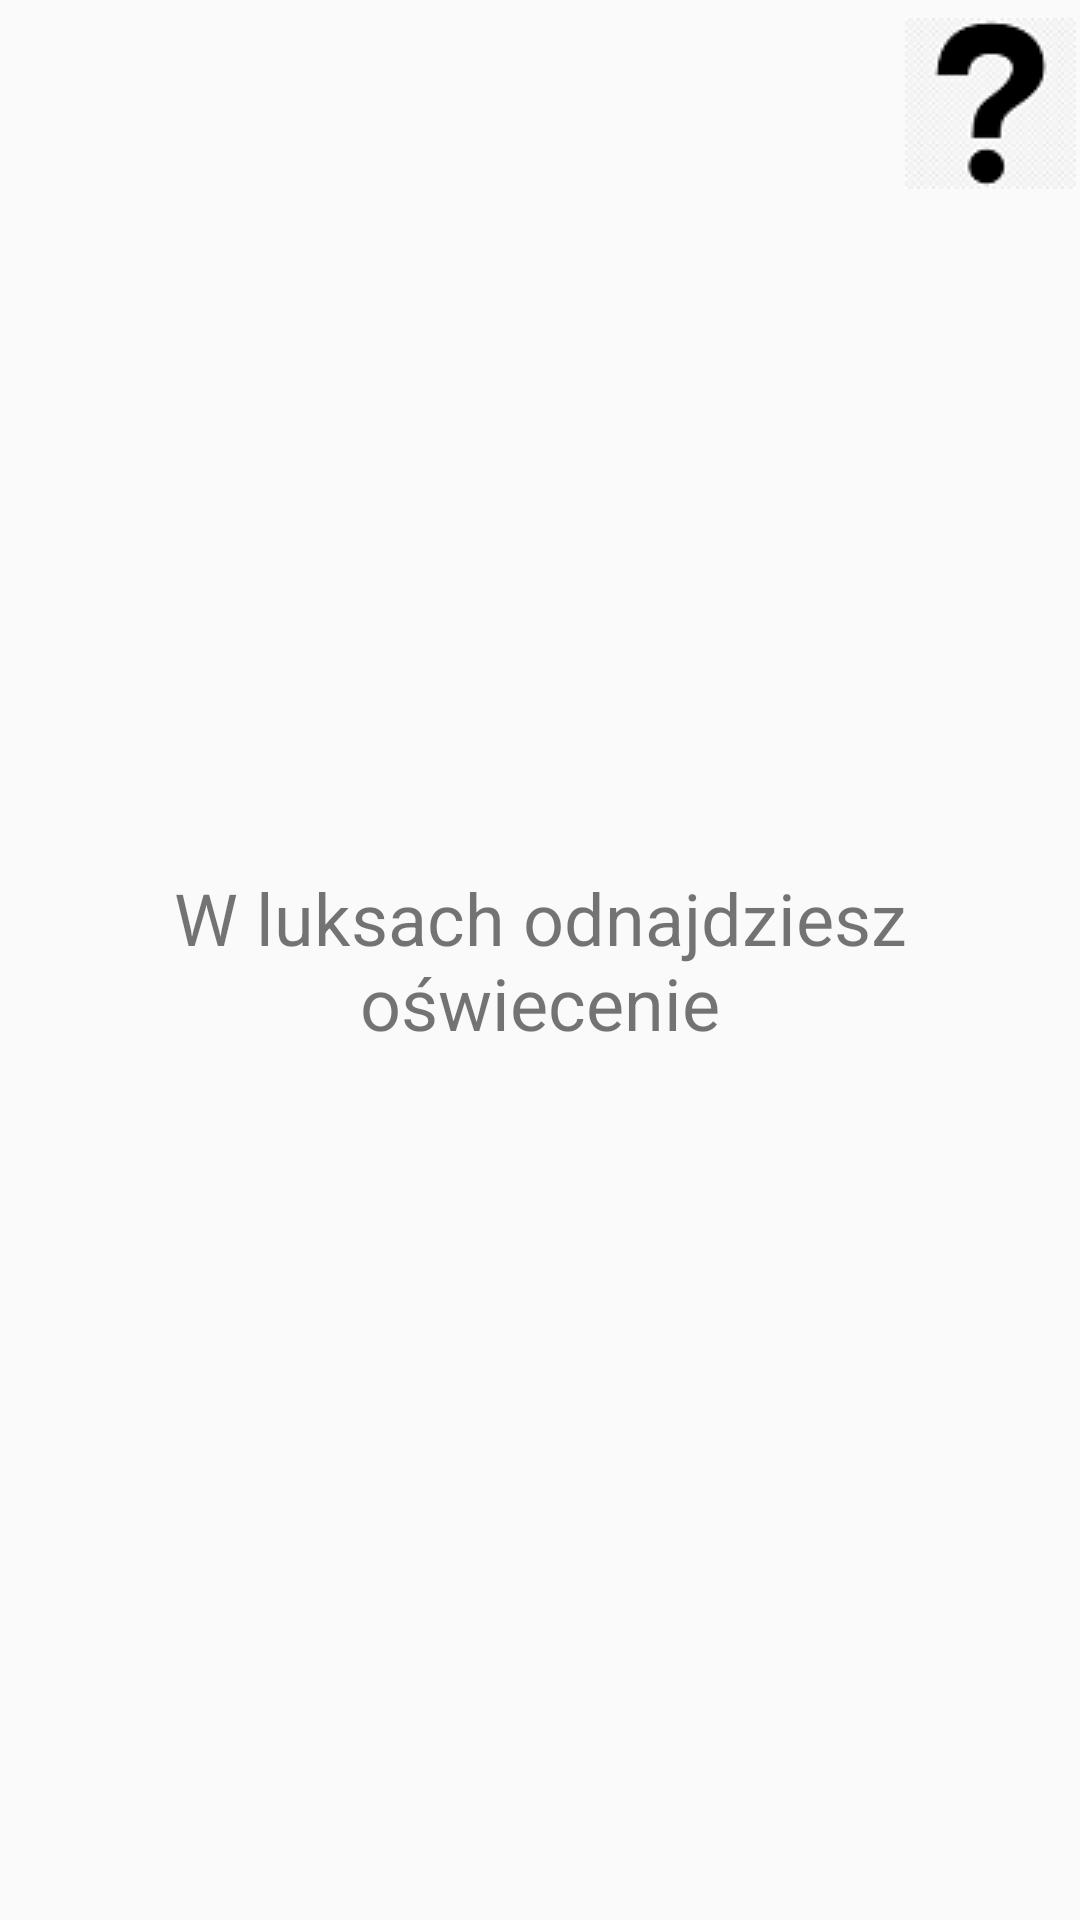

Icons on this 1080*1920 Android screen, each with the point to tap as point (x, y):
question mark: point (990, 103)
